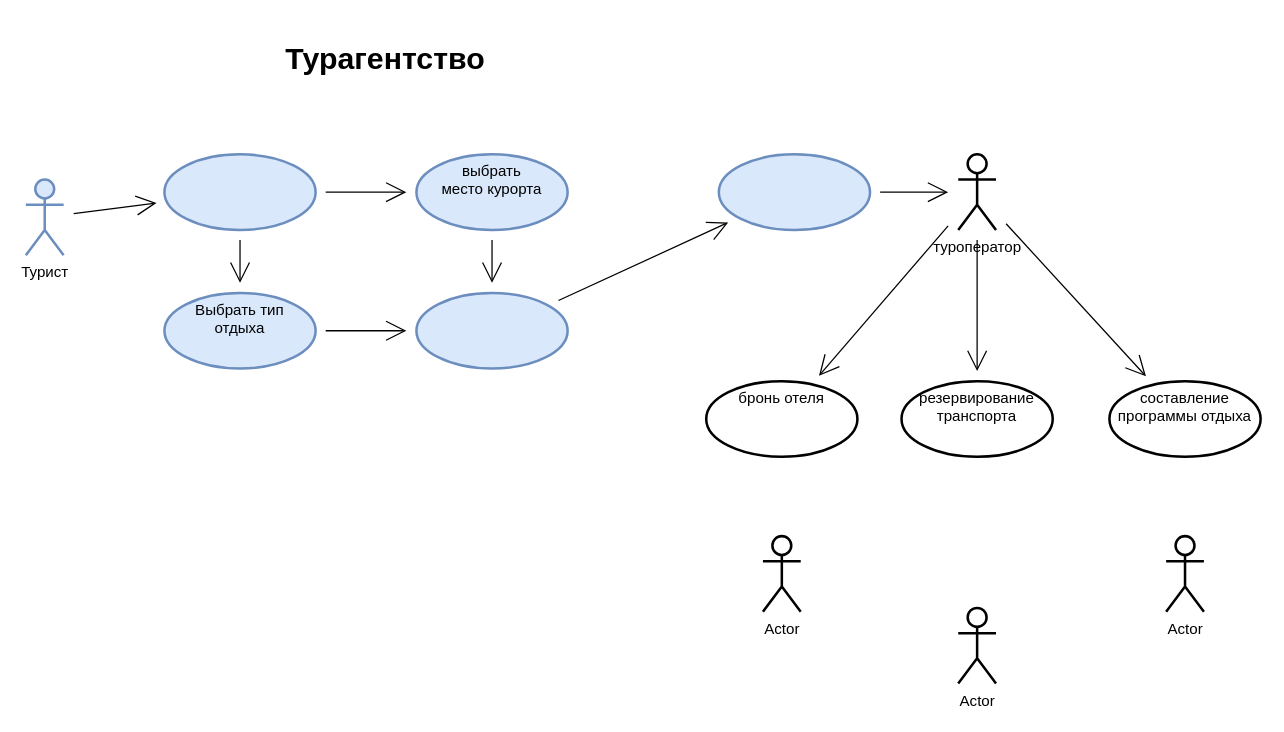
This 1284x732 diagram has some shape labels left out. Each missing label, with the centre of its shape:
"Обратиться к агенту" belongs at (239,191).
"определить сроки курорта" belongs at (491,330).
"подобрать понравившегося туроператора" belongs at (794,191).
